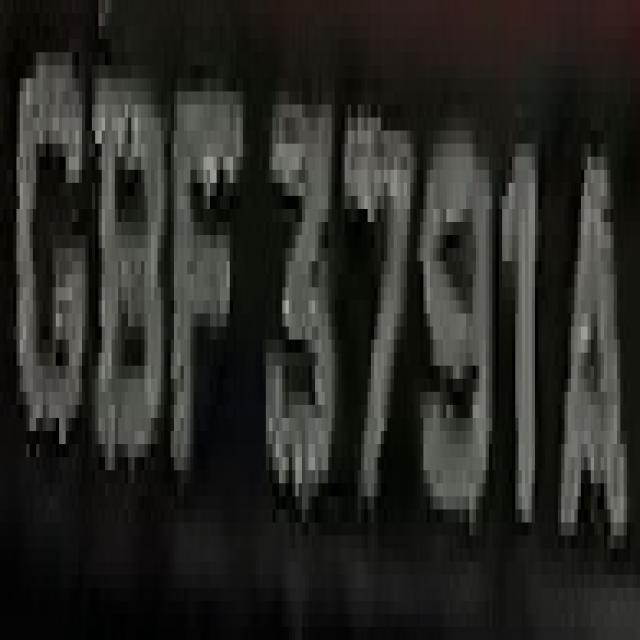1: (506, 65, 542, 562)
3: (263, 79, 338, 522)
7: (332, 91, 411, 562)
9: (413, 92, 492, 536)
A: (545, 117, 637, 614)
B: (85, 26, 161, 470)
F: (171, 79, 246, 496)
G: (13, 13, 89, 483)
